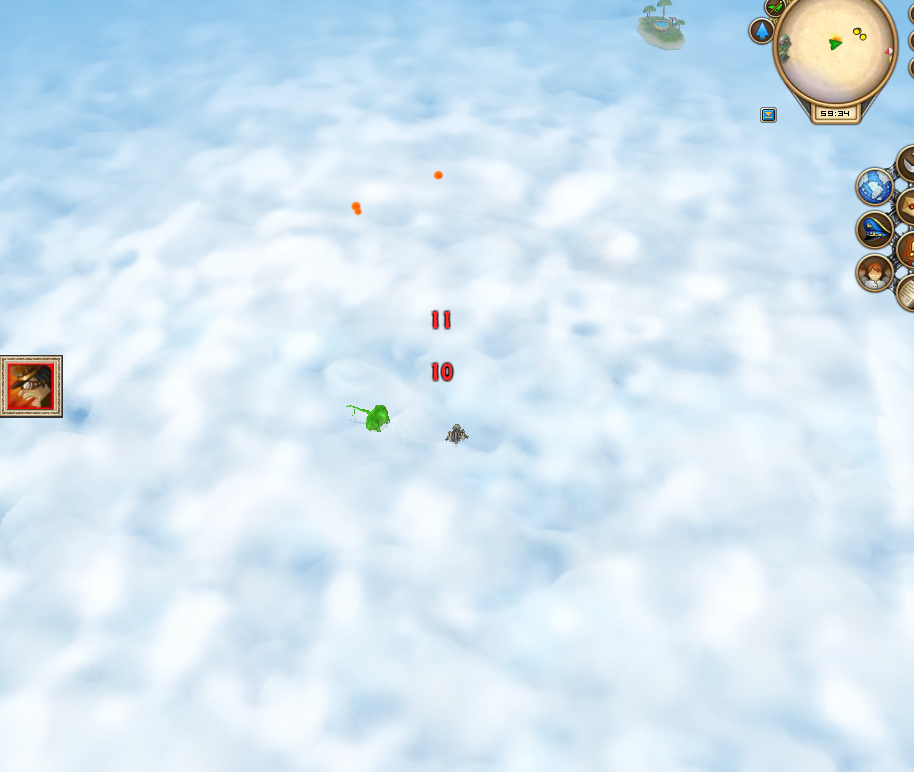dandelion-empty: (341, 392, 396, 436)
fluff: (350, 199, 363, 211), (433, 168, 444, 180), (353, 207, 363, 219)
